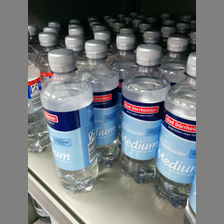water: (40, 49, 99, 196), (118, 44, 169, 184), (154, 51, 196, 205), (81, 39, 119, 167)
